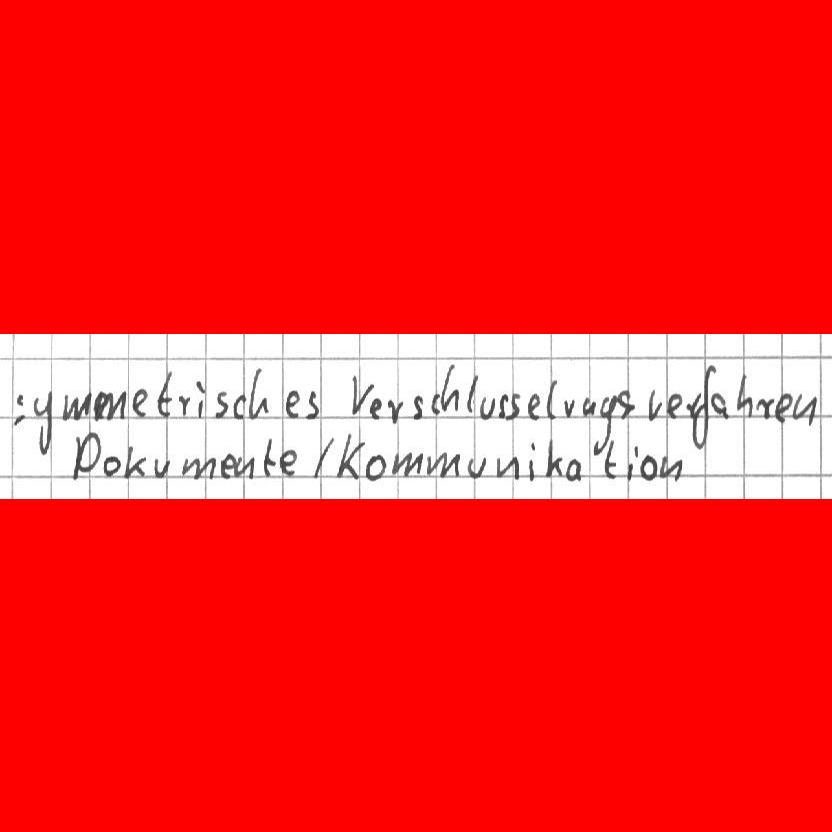Char: (690, 363, 717, 453), (590, 392, 614, 457), (32, 392, 54, 456), (71, 431, 99, 480), (336, 432, 362, 482), (311, 434, 335, 480), (247, 367, 268, 419), (424, 450, 459, 480), (390, 449, 423, 480), (349, 373, 371, 418), (440, 362, 459, 413), (180, 455, 215, 481), (793, 391, 818, 427), (733, 371, 753, 415), (123, 444, 147, 479), (600, 437, 619, 480), (156, 371, 174, 416), (63, 391, 90, 421), (544, 440, 563, 480), (105, 390, 126, 423), (93, 388, 113, 421), (659, 453, 681, 483), (545, 376, 561, 417), (261, 435, 276, 476), (365, 452, 386, 481), (464, 374, 479, 414), (615, 389, 635, 419), (500, 392, 520, 422), (646, 386, 662, 423), (278, 448, 299, 476), (496, 454, 519, 479), (13, 389, 28, 426), (194, 378, 208, 417), (284, 389, 302, 419), (132, 388, 150, 418), (755, 394, 775, 420), (711, 393, 731, 419), (480, 393, 498, 421), (305, 389, 321, 420), (466, 455, 487, 478), (776, 392, 792, 422), (102, 454, 122, 478), (526, 393, 543, 421), (640, 454, 658, 480), (387, 397, 405, 423), (214, 389, 230, 418), (235, 455, 255, 478), (527, 439, 538, 480), (667, 392, 685, 417), (367, 394, 383, 421), (231, 393, 247, 420), (686, 390, 702, 417), (565, 456, 582, 481), (627, 443, 638, 481), (411, 392, 425, 420), (581, 394, 597, 417), (153, 457, 171, 477), (220, 454, 235, 478), (176, 392, 191, 415), (562, 396, 577, 418), (429, 392, 440, 415)
